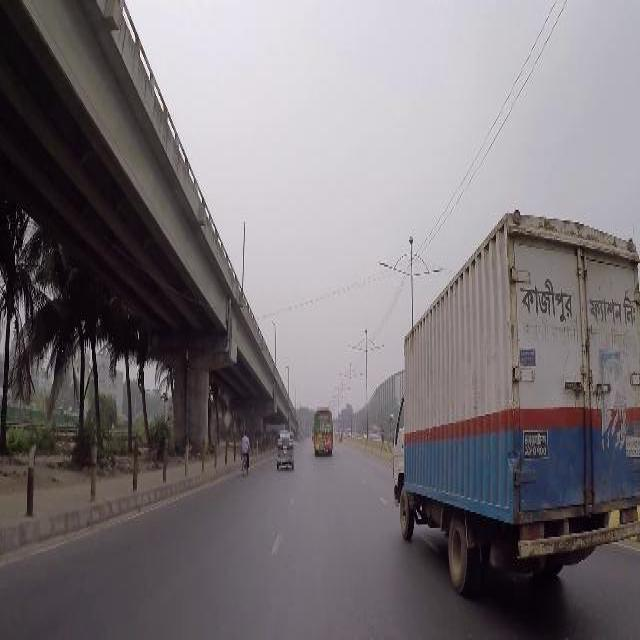bicycle: (238, 429, 250, 471)
bus: (312, 404, 332, 456)
pickup: (390, 205, 638, 595)
three wheelers -CNG-: (274, 426, 294, 470)
